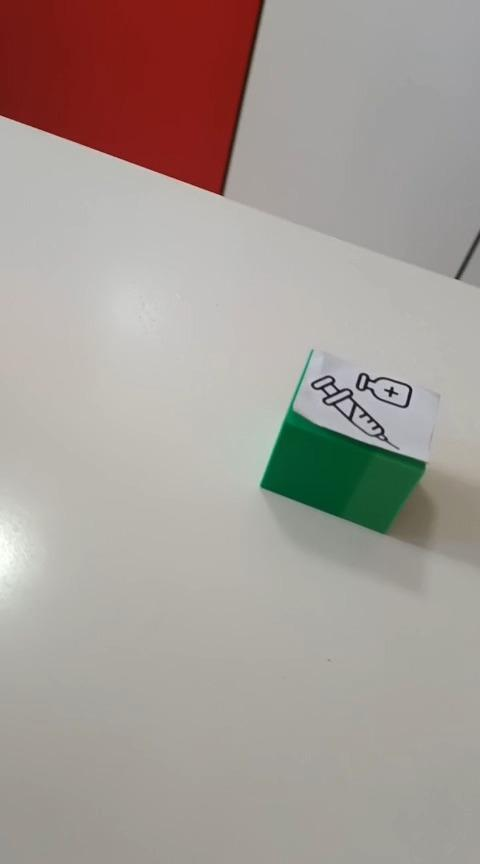antiseptic cream: (258, 346, 441, 535)
